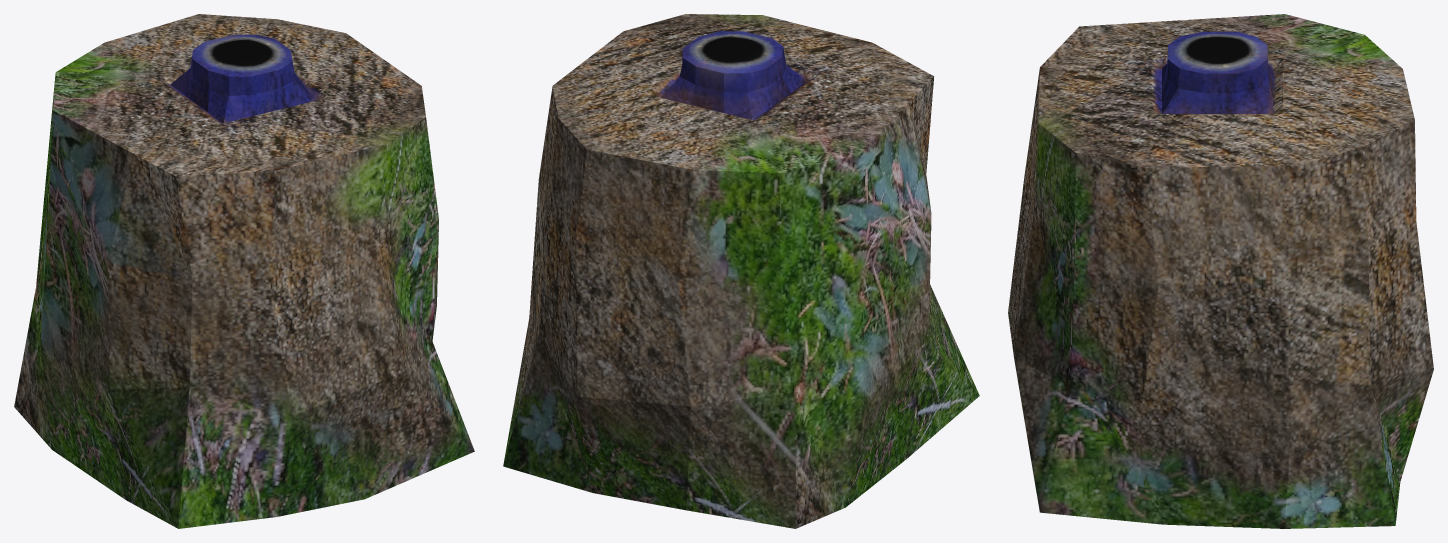
Rendered from button.glb.
3 renders of one model, left to right at view 1: azimuth 30°, elevation 25°; view 2: azimuth 150°, elevation 25°; view 3: azimuth 270°, elevation 25°, orthographic. The views are drawn at different scales.
Visible parts, largest first — view 1: Cube; view 2: Cube; view 3: Cube.
Boxes of the visible parts, x1=… form: Cube: x1=14, y1=14, x2=474, y2=528; Cube: x1=503, y1=14, x2=979, y2=528; Cube: x1=1008, y1=14, x2=1433, y2=528.
Size of the model in its own units: 0.6416 by 0.7625 by 0.6806.
1 material, 1 textured.
